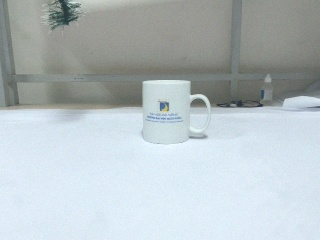bottle: (259, 74, 274, 105)
cup: (140, 77, 201, 145)
